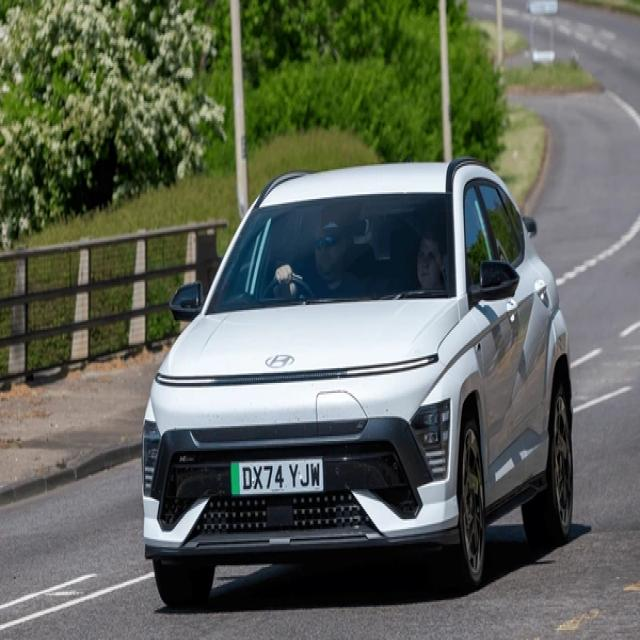hyundai: (264, 350, 295, 373)
